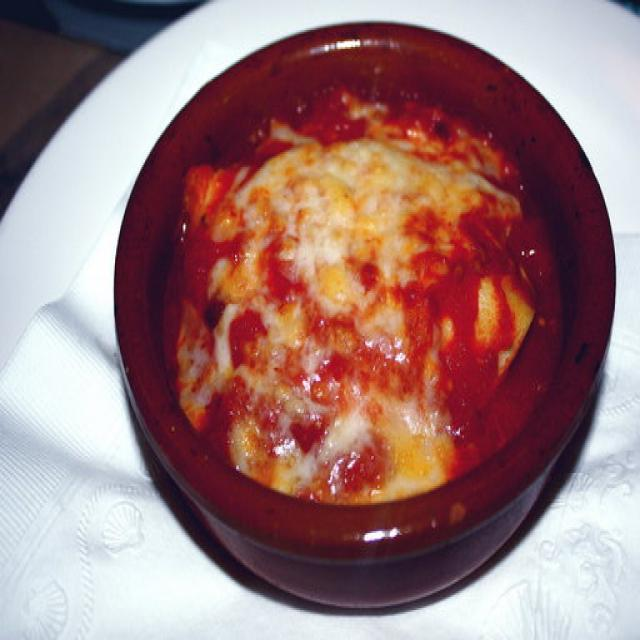Lasagna: (140, 103, 565, 533)
